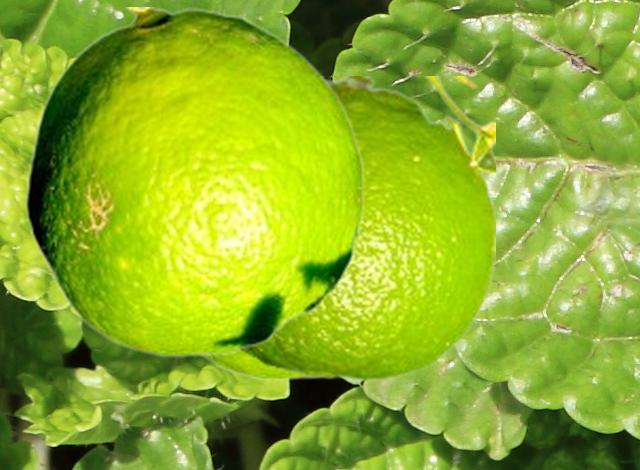dalandan: (25, 7, 364, 357), (238, 76, 494, 379), (199, 75, 336, 380)
